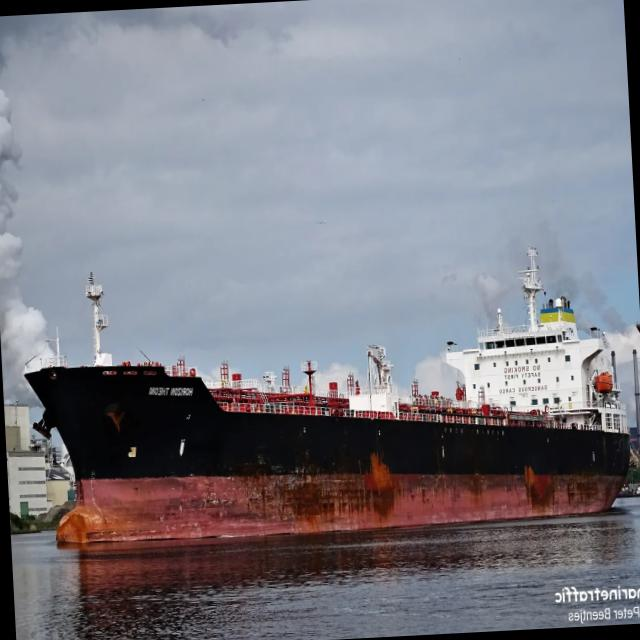Tanker: (26, 249, 629, 543)
